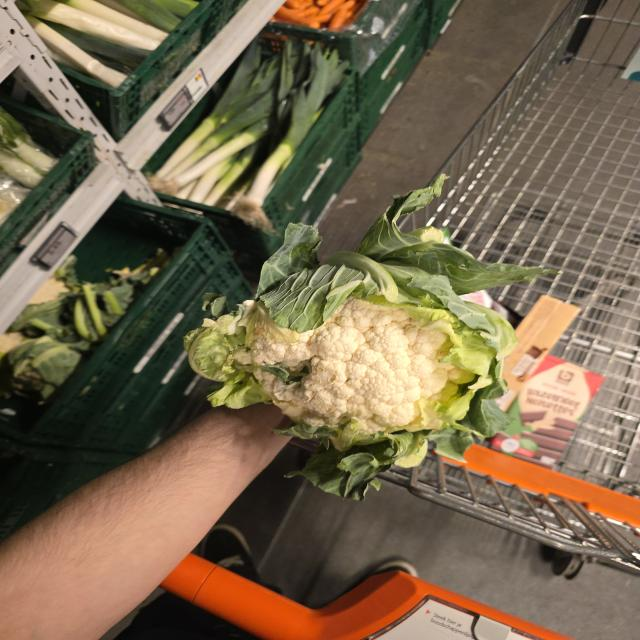Cauliflower: (185, 218, 515, 499)
